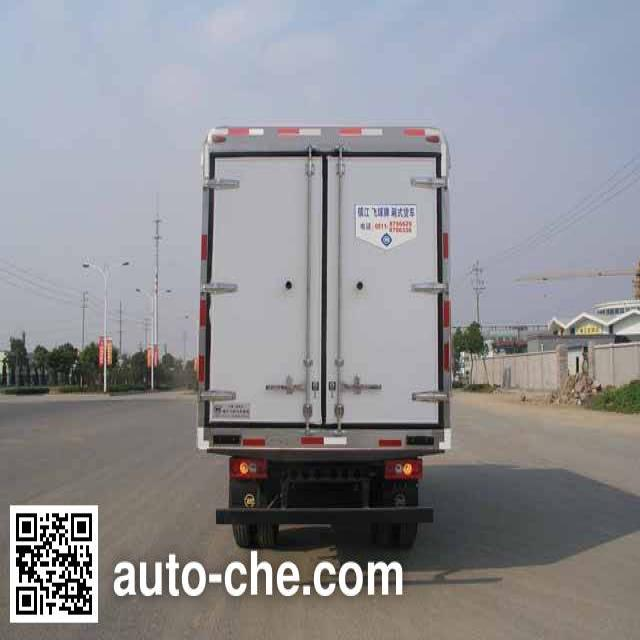normal_truck: (194, 121, 455, 550)
